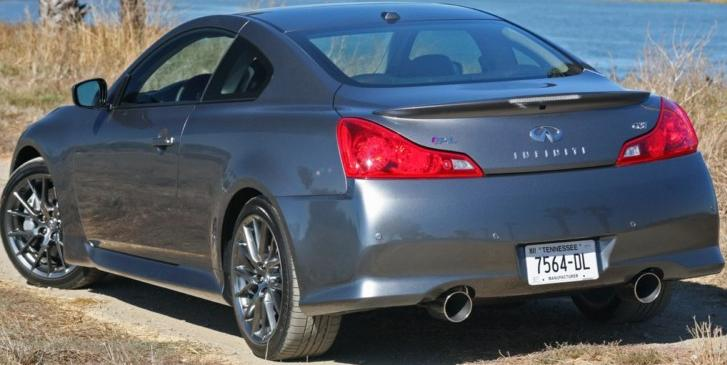back_view: (333, 87, 727, 326)
backlight: (331, 109, 488, 189)
side_glass: (104, 24, 279, 112)
